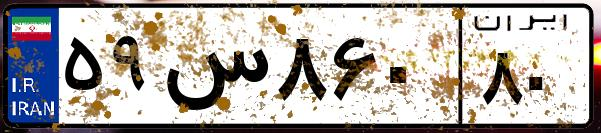0: (385, 28, 445, 110), (525, 38, 570, 115)
5: (57, 26, 110, 100)
6: (330, 28, 385, 110)
8: (270, 28, 330, 110), (475, 38, 525, 113)
9: (110, 28, 158, 98)
س: (158, 20, 270, 120)
